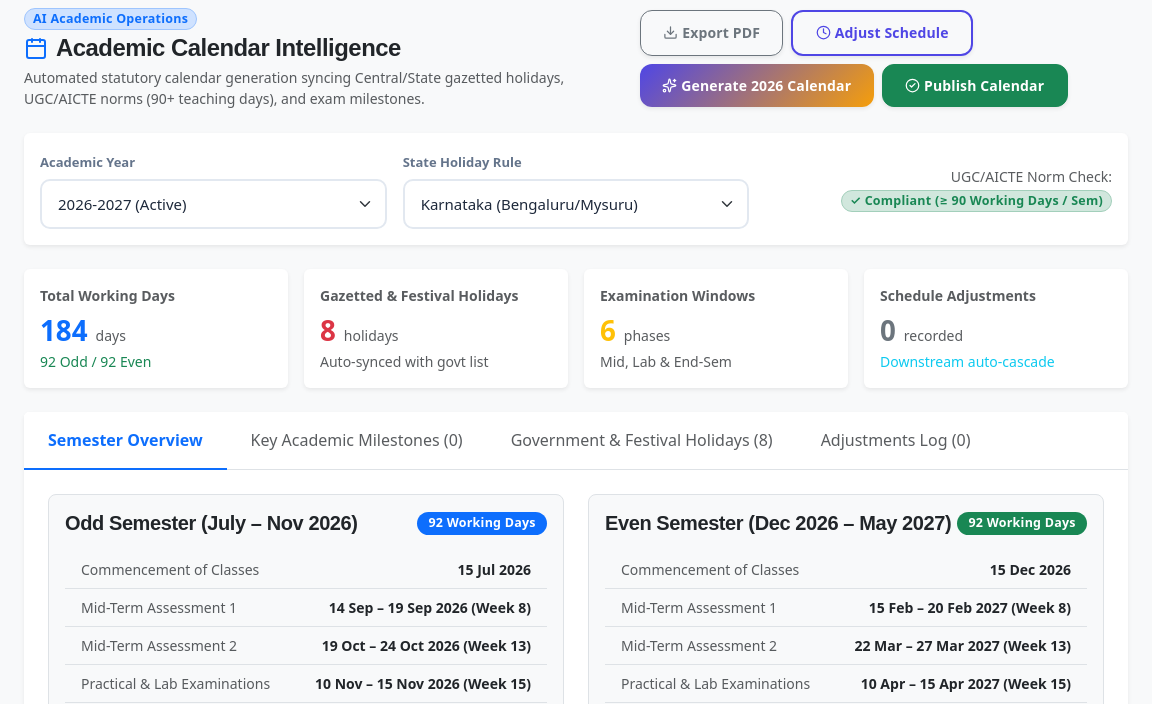
AcademicCalendarPage Component › Switches between tabs (Milestones, Holidays, Adjustments)
Click the button "Government & Festival Holidays (8)". click: (642, 440)
box: left=487, top=412, right=797, bottom=468
(page scrolled)
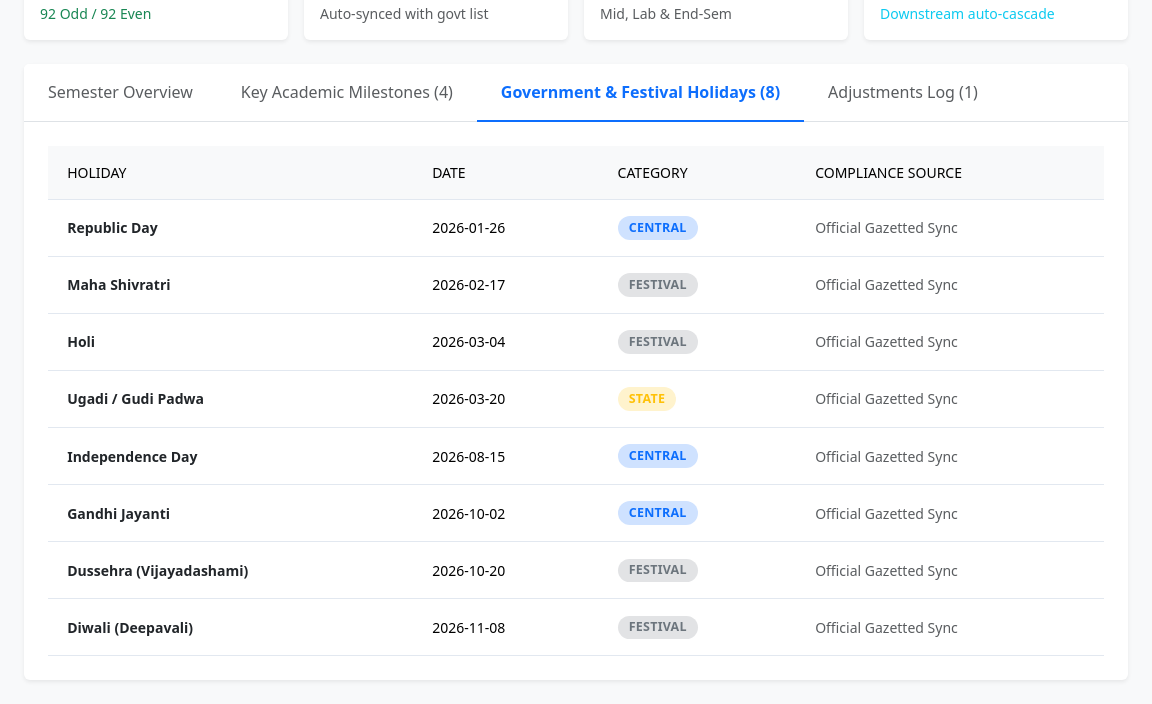
Expected: the text "Republic Day" is shown, left=48, top=199, right=413, bottom=256
Expected: the text "Independence Day" is shown, left=48, top=428, right=413, bottom=485
